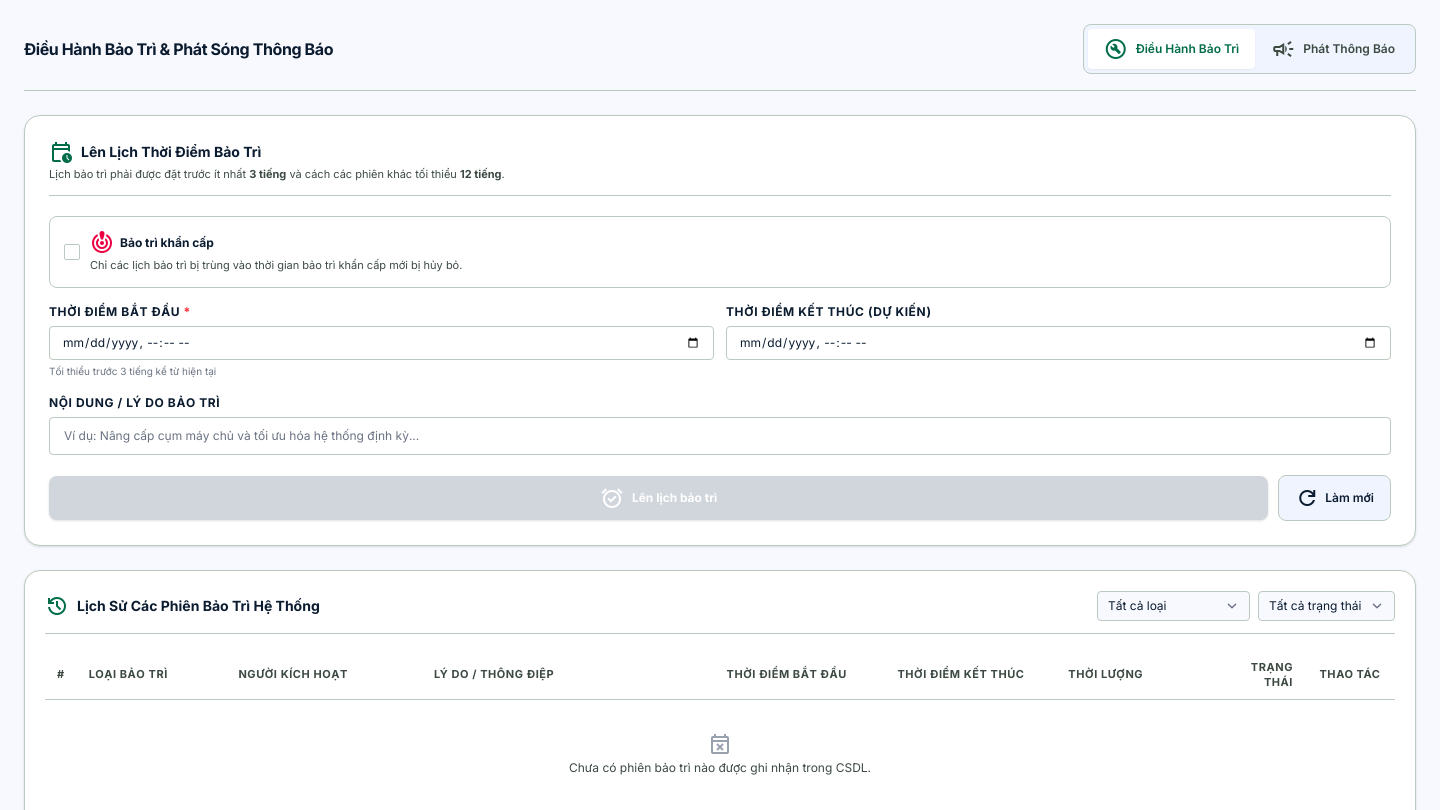
Test: BroadcastPage Refinements — Emergency Checkbox & Maintenance History (2-Tier Architecture) › 🧱 TẦNG 1: UI Rendering & Controls Hierarchy › 1.5. Thao tác Form: Khi tick "Bảo trì khẩn cấp", giao diện chuyển sang chế độ khẩn cấp (nút đỏ, ẩn input giờ bắt buộc)
Expected: the button with id "btn-submit-schedule-maintenance" is shown, left=49, top=476, right=1268, bottom=520
# Tick vào checkbox "Bảo trì khẩn cấp"
Click the checkbox labelled "Bảo trì khẩn cấp". click: {"x": 72, "y": 252}
box: left=64, top=244, right=80, bottom=260
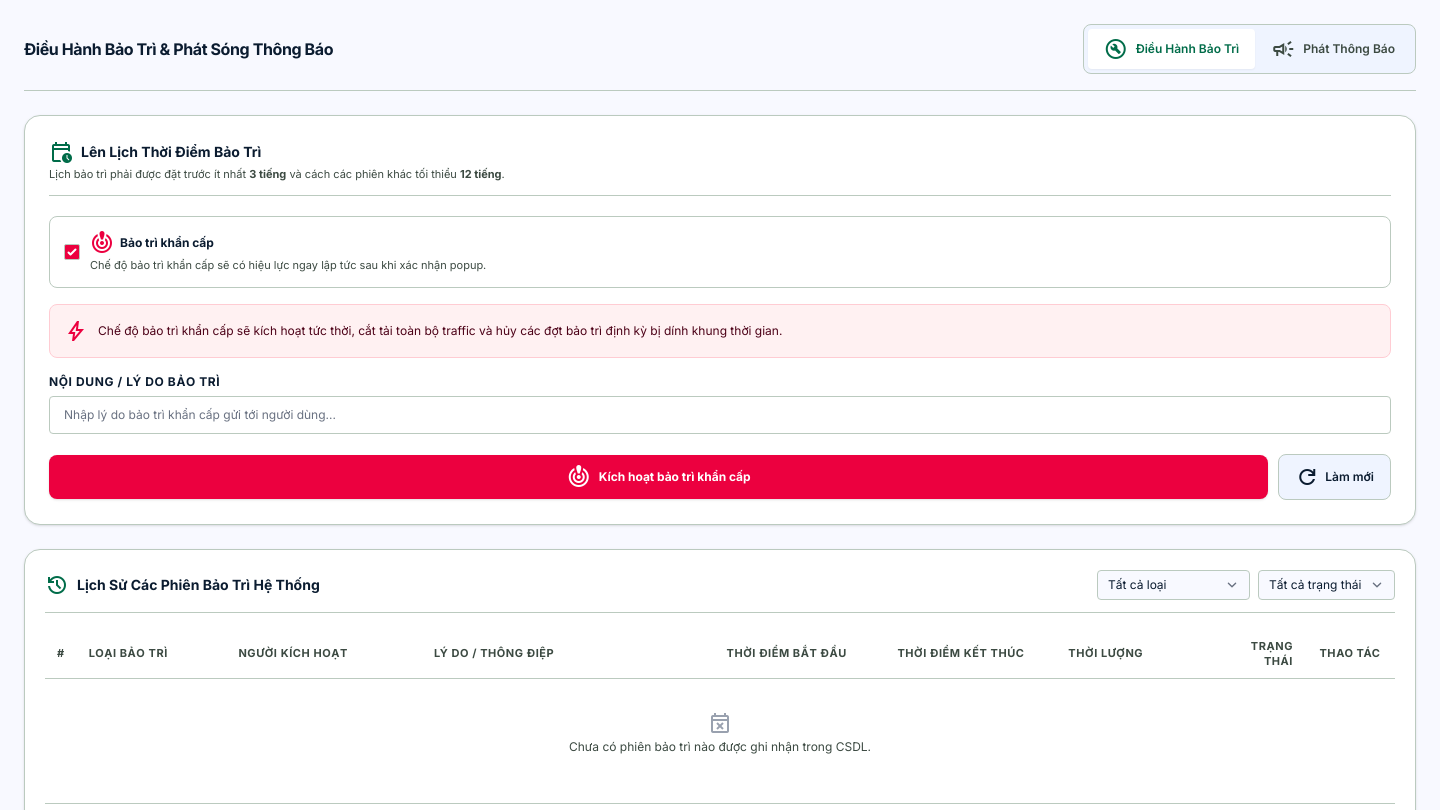
Expected: the button with id "btn-submit-schedule-maintenance" is shown, left=49, top=455, right=1268, bottom=499
Expected: the checkbox labelled "Bảo trì khẩn cấp" is checked, left=64, top=244, right=80, bottom=260
Expected: the text "Kích hoạt bảo trì khẩn cấp" is shown, left=599, top=469, right=750, bottom=485
